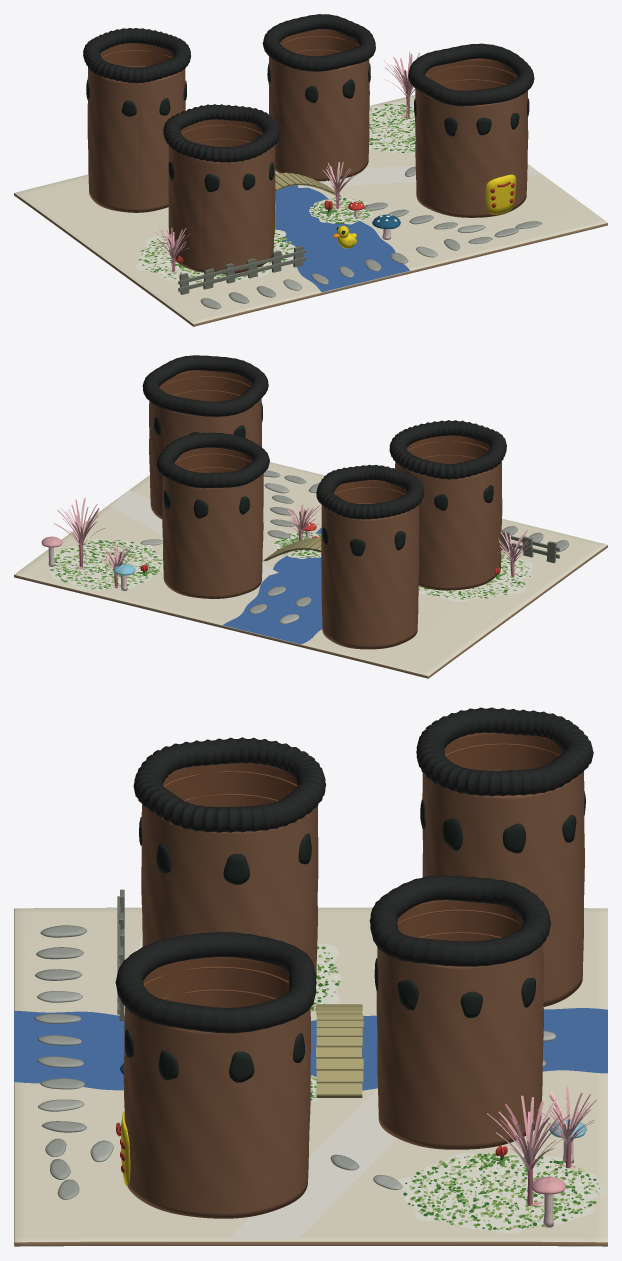
The model's file is tulou-village.glb.
3 views of the same model, one above another, from view 1: azimuth 30°, elevation 25°; view 2: azimuth 150°, elevation 25°; view 3: azimuth 270°, elevation 25° (orthographic). The views are drawn at different scales.
Visible parts, largest first — view 1: 手工底板 · thin cream cardboard, Front right | hollow clay-covered cylinder, Front left | hollow clay-covered cylinder, Rear left | hollow clay-covered cylinder, Rear middle | hollow clay-covered cylinder, 蓝色小河 · hand-painted paper water, Front right | hand-pressed charcoal rim, open centre, Front left | hand-pressed charcoal rim, open centre, Rear middle | hand-pressed charcoal rim, open centre, Rear left | hand-pressed charcoal rim, open centre, 后侧庭院 · paper garden base, 左前院 · paper garden base (+11 smaller); view 2: 手工底板 · thin cream cardboard, Rear left | hollow clay-covered cylinder, Rear middle | hollow clay-covered cylinder, Front left | hollow clay-covered cylinder, Front right | hollow clay-covered cylinder, 蓝色小河 · hand-painted paper water, Front right | hand-pressed charcoal rim, open centre, Front left | hand-pressed charcoal rim, open centre, Rear middle | hand-pressed charcoal rim, open centre, Rear left | hand-pressed charcoal rim, open centre, 后侧庭院 · paper garden base, 后侧庭院 · paper garden scattered green paper (+7 smaller); view 3: 手工底板 · thin cream cardboard, Front right | hollow clay-covered cylinder, Rear middle | hollow clay-covered cylinder, Front left | hollow clay-covered cylinder, Rear left | hollow clay-covered cylinder, 蓝色小河 · hand-painted paper water, Front right | hand-pressed charcoal rim, open centre, Front left | hand-pressed charcoal rim, open centre, Rear middle | hand-pressed charcoal rim, open centre, Rear left | hand-pressed charcoal rim, open centre, 后侧庭院 · paper garden base, Diagonal pale paper path (+4 smaller).
Boxes of the visible parts, <box> form: 手工底板 · thin cream cardboard: <box>14,95,607,326</box>; Front right | hollow clay-covered cylinder: <box>415,58,528,217</box>; Front left | hollow clay-covered cylinder: <box>168,119,275,274</box>; Rear left | hollow clay-covered cylinder: <box>87,43,185,212</box>; Rear middle | hollow clay-covered cylinder: <box>268,29,369,181</box>; 蓝色小河 · hand-painted paper water: <box>275,173,409,292</box>; Front right | hand-pressed charcoal rim, open centre: <box>408,43,534,106</box>; Front left | hand-pressed charcoal rim, open centre: <box>163,104,280,162</box>; Rear middle | hand-pressed charcoal rim, open centre: <box>262,14,375,71</box>; Rear left | hand-pressed charcoal rim, open centre: <box>83,28,190,83</box>; 后侧庭院 · paper garden base: <box>369,102,415,154</box>; 左前院 · paper garden base: <box>135,229,295,285</box>; 手工底板 · thin cream cardboard: <box>14,462,607,678</box>; Rear left | hollow clay-covered cylinder: <box>321,480,419,649</box>; Rear middle | hollow clay-covered cylinder: <box>162,447,263,598</box>; Front left | hollow clay-covered cylinder: <box>395,435,502,590</box>; Front right | hollow clay-covered cylinder: <box>149,370,261,519</box>; 蓝色小河 · hand-painted paper water: <box>223,527,322,644</box>; Front right | hand-pressed charcoal rim, open centre: <box>142,355,268,416</box>; Front left | hand-pressed charcoal rim, open centre: <box>389,420,506,479</box>; Rear middle | hand-pressed charcoal rim, open centre: <box>156,432,269,488</box>; Rear left | hand-pressed charcoal rim, open centre: <box>316,464,424,519</box>; 后侧庭院 · paper garden base: <box>48,538,163,590</box>; 后侧庭院 · paper garden scattered green paper: <box>49,540,162,589</box>; 手工底板 · thin cream cardboard: <box>14,907,607,1246</box>; Front right | hollow clay-covered cylinder: <box>123,957,310,1218</box>; Rear middle | hollow clay-covered cylinder: <box>376,900,543,1149</box>; Front left | hollow clay-covered cylinder: <box>141,762,318,980</box>; Rear left | hollow clay-covered cylinder: <box>422,732,584,1006</box>; 蓝色小河 · hand-painted paper water: <box>14,1008,607,1090</box>; Front right | hand-pressed charcoal rim, open centre: <box>115,932,316,1033</box>; Front left | hand-pressed charcoal rim, open centre: <box>133,737,325,832</box>; Rear middle | hand-pressed charcoal rim, open centre: <box>369,875,550,966</box>; Rear left | hand-pressed charcoal rim, open centre: <box>416,707,593,796</box>; 后侧庭院 · paper garden base: <box>398,1153,606,1233</box>; Diagonal pale paper path: <box>227,1089,396,1240</box>.
Bounding box in the file's own units: 0.64 × 0.2193 × 0.4801.
